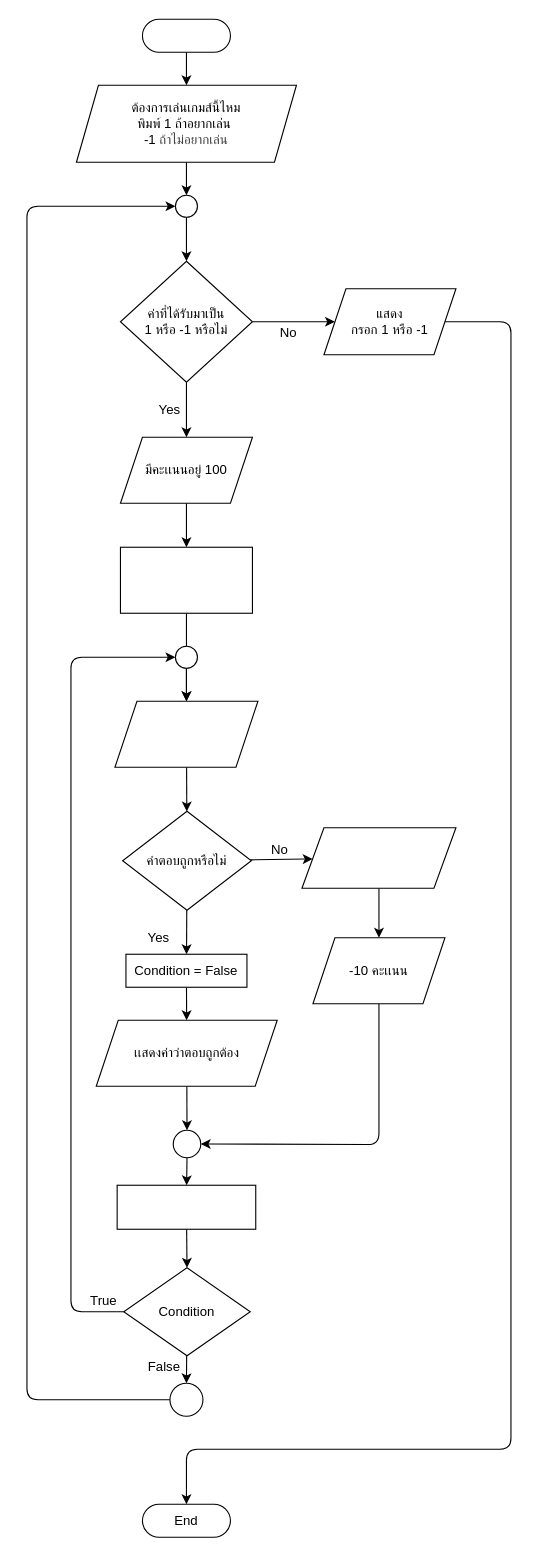
Some shapes in this 539 by 1557 pixel diagram are drawn without their labels. The centre of each missing label's shape, as x and y in pixels:
"Start" goes at point (185, 35).
"กรอกตัวเลข" goes at point (186, 733).
"สุ่มตัวเลข 1-100 Condition = True" goes at point (185, 579).
"เเสดงคะเเนนที่เหลืออยู่" goes at point (186, 1206).
"แสดงค่าบอกว่า มากกว่าหรือน้อยกว่า จากตัวเลขที่เรากรอก" goes at point (378, 857).
